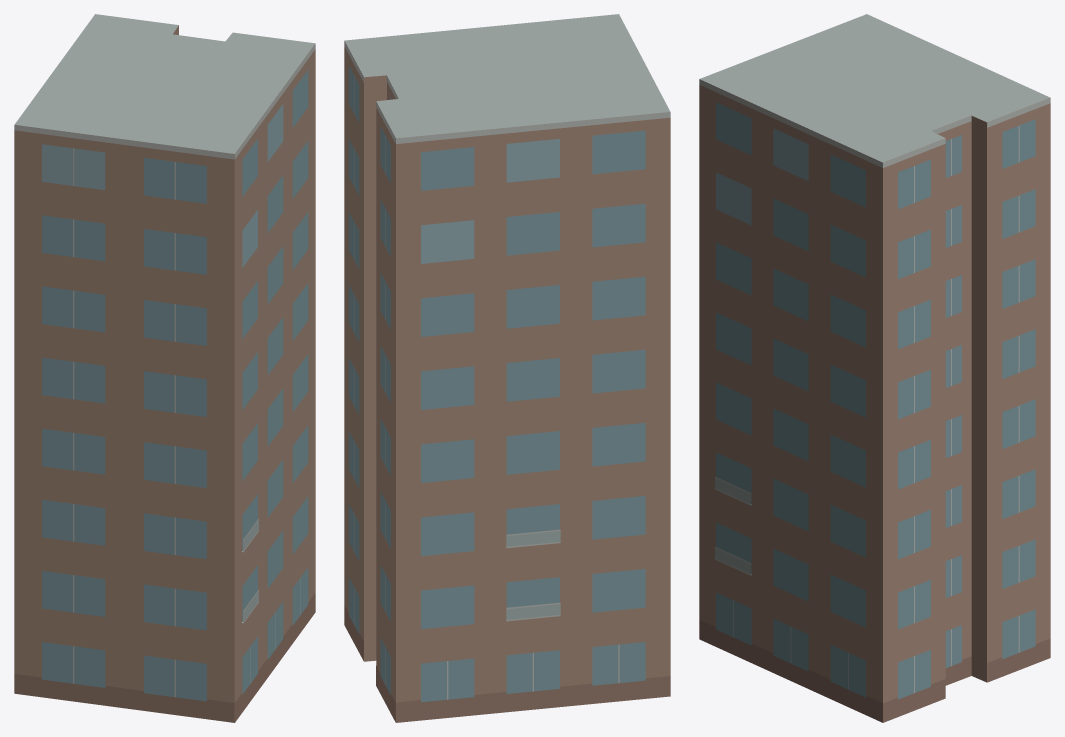
File: survey-upis-32671392.glb
3 renders of one model, left to right at view 1: azimuth 30°, elevation 25°; view 2: azimuth 150°, elevation 25°; view 3: azimuth 270°, elevation 25°, orthographic. The views are drawn at different scales.
Visible parts, largest first — view 1: survey-upis-32671392.tmp; view 2: survey-upis-32671392.tmp; view 3: survey-upis-32671392.tmp.
Part boxes in pixels (left/top/right/bottom): survey-upis-32671392.tmp: left=14, top=14, right=315, bottom=722; survey-upis-32671392.tmp: left=344, top=14, right=670, bottom=722; survey-upis-32671392.tmp: left=699, top=14, right=1050, bottom=722.
Bounding box in the file's own units: 14.18 × 24.9 × 14.16.
